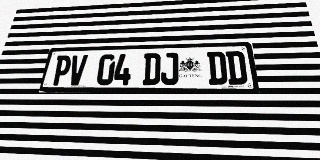0: (96, 54, 116, 85)
4: (113, 54, 132, 85)
D: (225, 51, 248, 85), (207, 51, 228, 85), (142, 53, 161, 85)
J: (160, 53, 178, 85)
P: (51, 55, 72, 85)
V: (67, 55, 88, 85)
